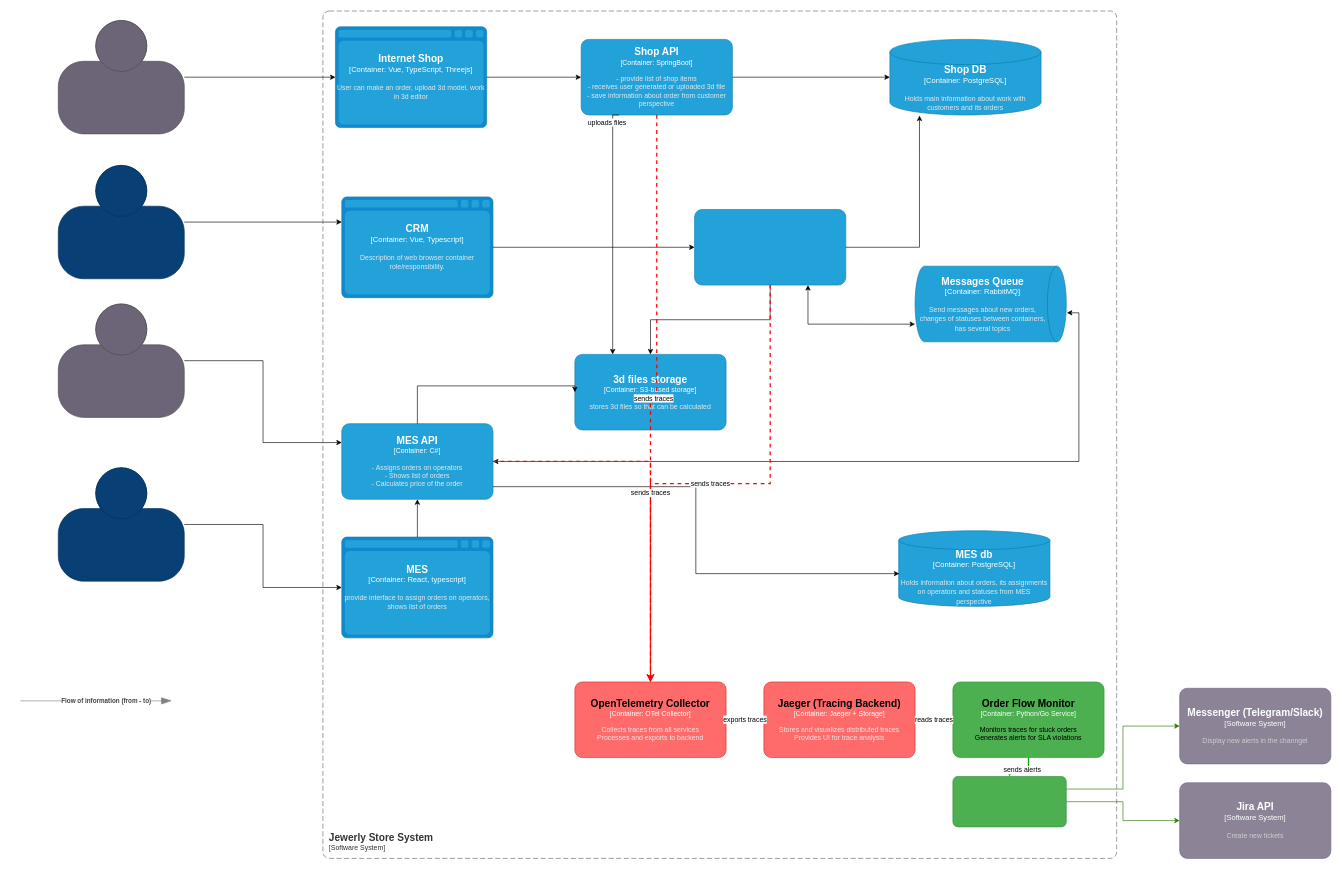
Image size: 1342x869. Some labels were removed from this diagram. Each missing label, with the box of its shape:
Alert Manager [Container]: (952, 776, 1066, 827)
API user [Person] Description of external person.: (58, 303, 184, 417)
CRM API [Container: SpringBoot] Description of container role/responsibility.: (694, 209, 846, 285)
Customer [Person] Description of external person.: (58, 20, 184, 134)
Operator [Person] Takes order in work, manufactures jewerly: (58, 467, 184, 581)
Seller [Person] Operates with order, confirms manufacturing for the user: (58, 165, 184, 279)
